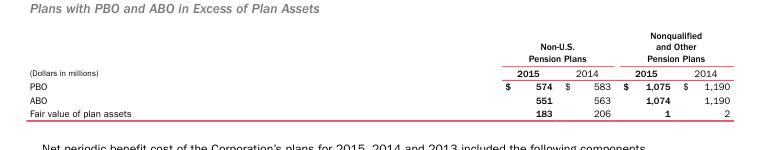table: (28, 29, 729, 118)
table column: (28, 29, 317, 118), (317, 29, 557, 118), (557, 29, 616, 118), (616, 29, 675, 118), (675, 29, 729, 118)
table column header: (28, 29, 729, 79)
table row: (28, 29, 729, 64), (28, 64, 729, 79), (28, 92, 729, 106), (28, 79, 729, 92), (28, 106, 729, 118)
table spanning cell: (28, 29, 317, 79), (317, 29, 616, 64), (616, 29, 729, 64)
